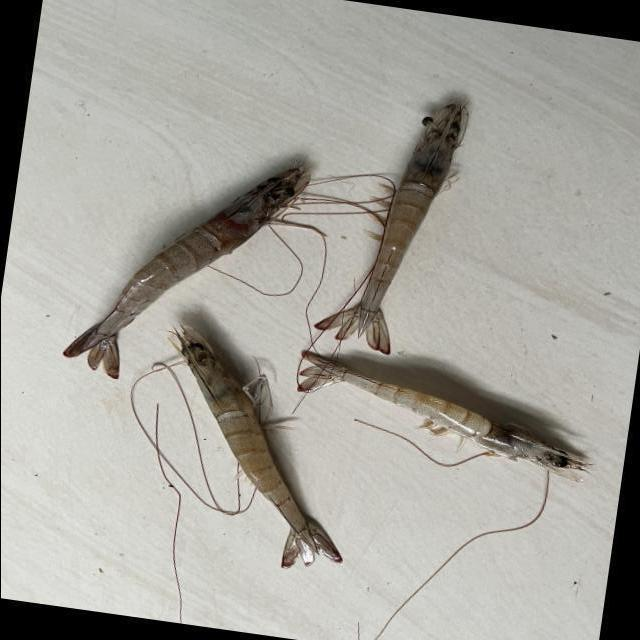shrimp: (61, 167, 308, 379), (167, 326, 341, 568), (314, 102, 467, 354), (297, 352, 591, 482)
